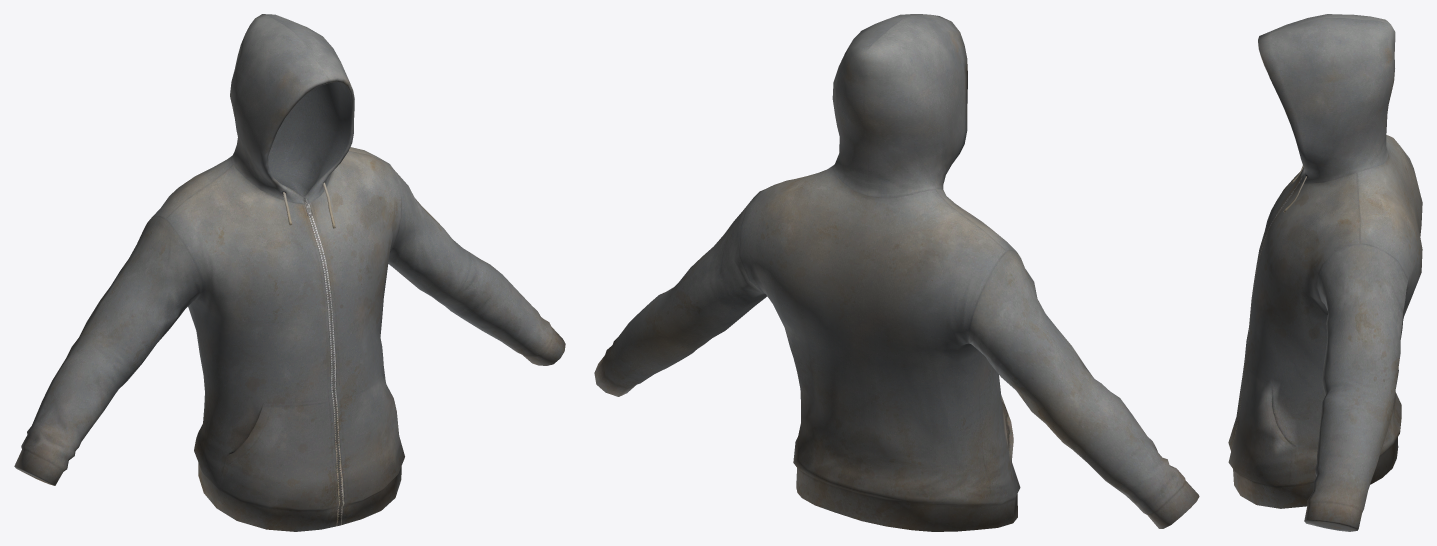
The model's file is SurvivorMale_Chest_Hoodie_Up_LOD0.glb.
3 renders of one model, left to right at view 1: azimuth 30°, elevation 25°; view 2: azimuth 150°, elevation 25°; view 3: azimuth 270°, elevation 25°, orthographic. The views are drawn at different scales.
Parts seen in each view (by area): view 1: Hoodie; view 2: Hoodie; view 3: Hoodie.
Part boxes in pixels (left/top/right/bottom): Hoodie: left=14, top=14, right=565, bottom=531; Hoodie: left=594, top=14, right=1199, bottom=531; Hoodie: left=1228, top=14, right=1422, bottom=531.
Bounding box in the file's own units: 1.13 × 0.9193 × 0.3535.
1 material, 1 textured.
